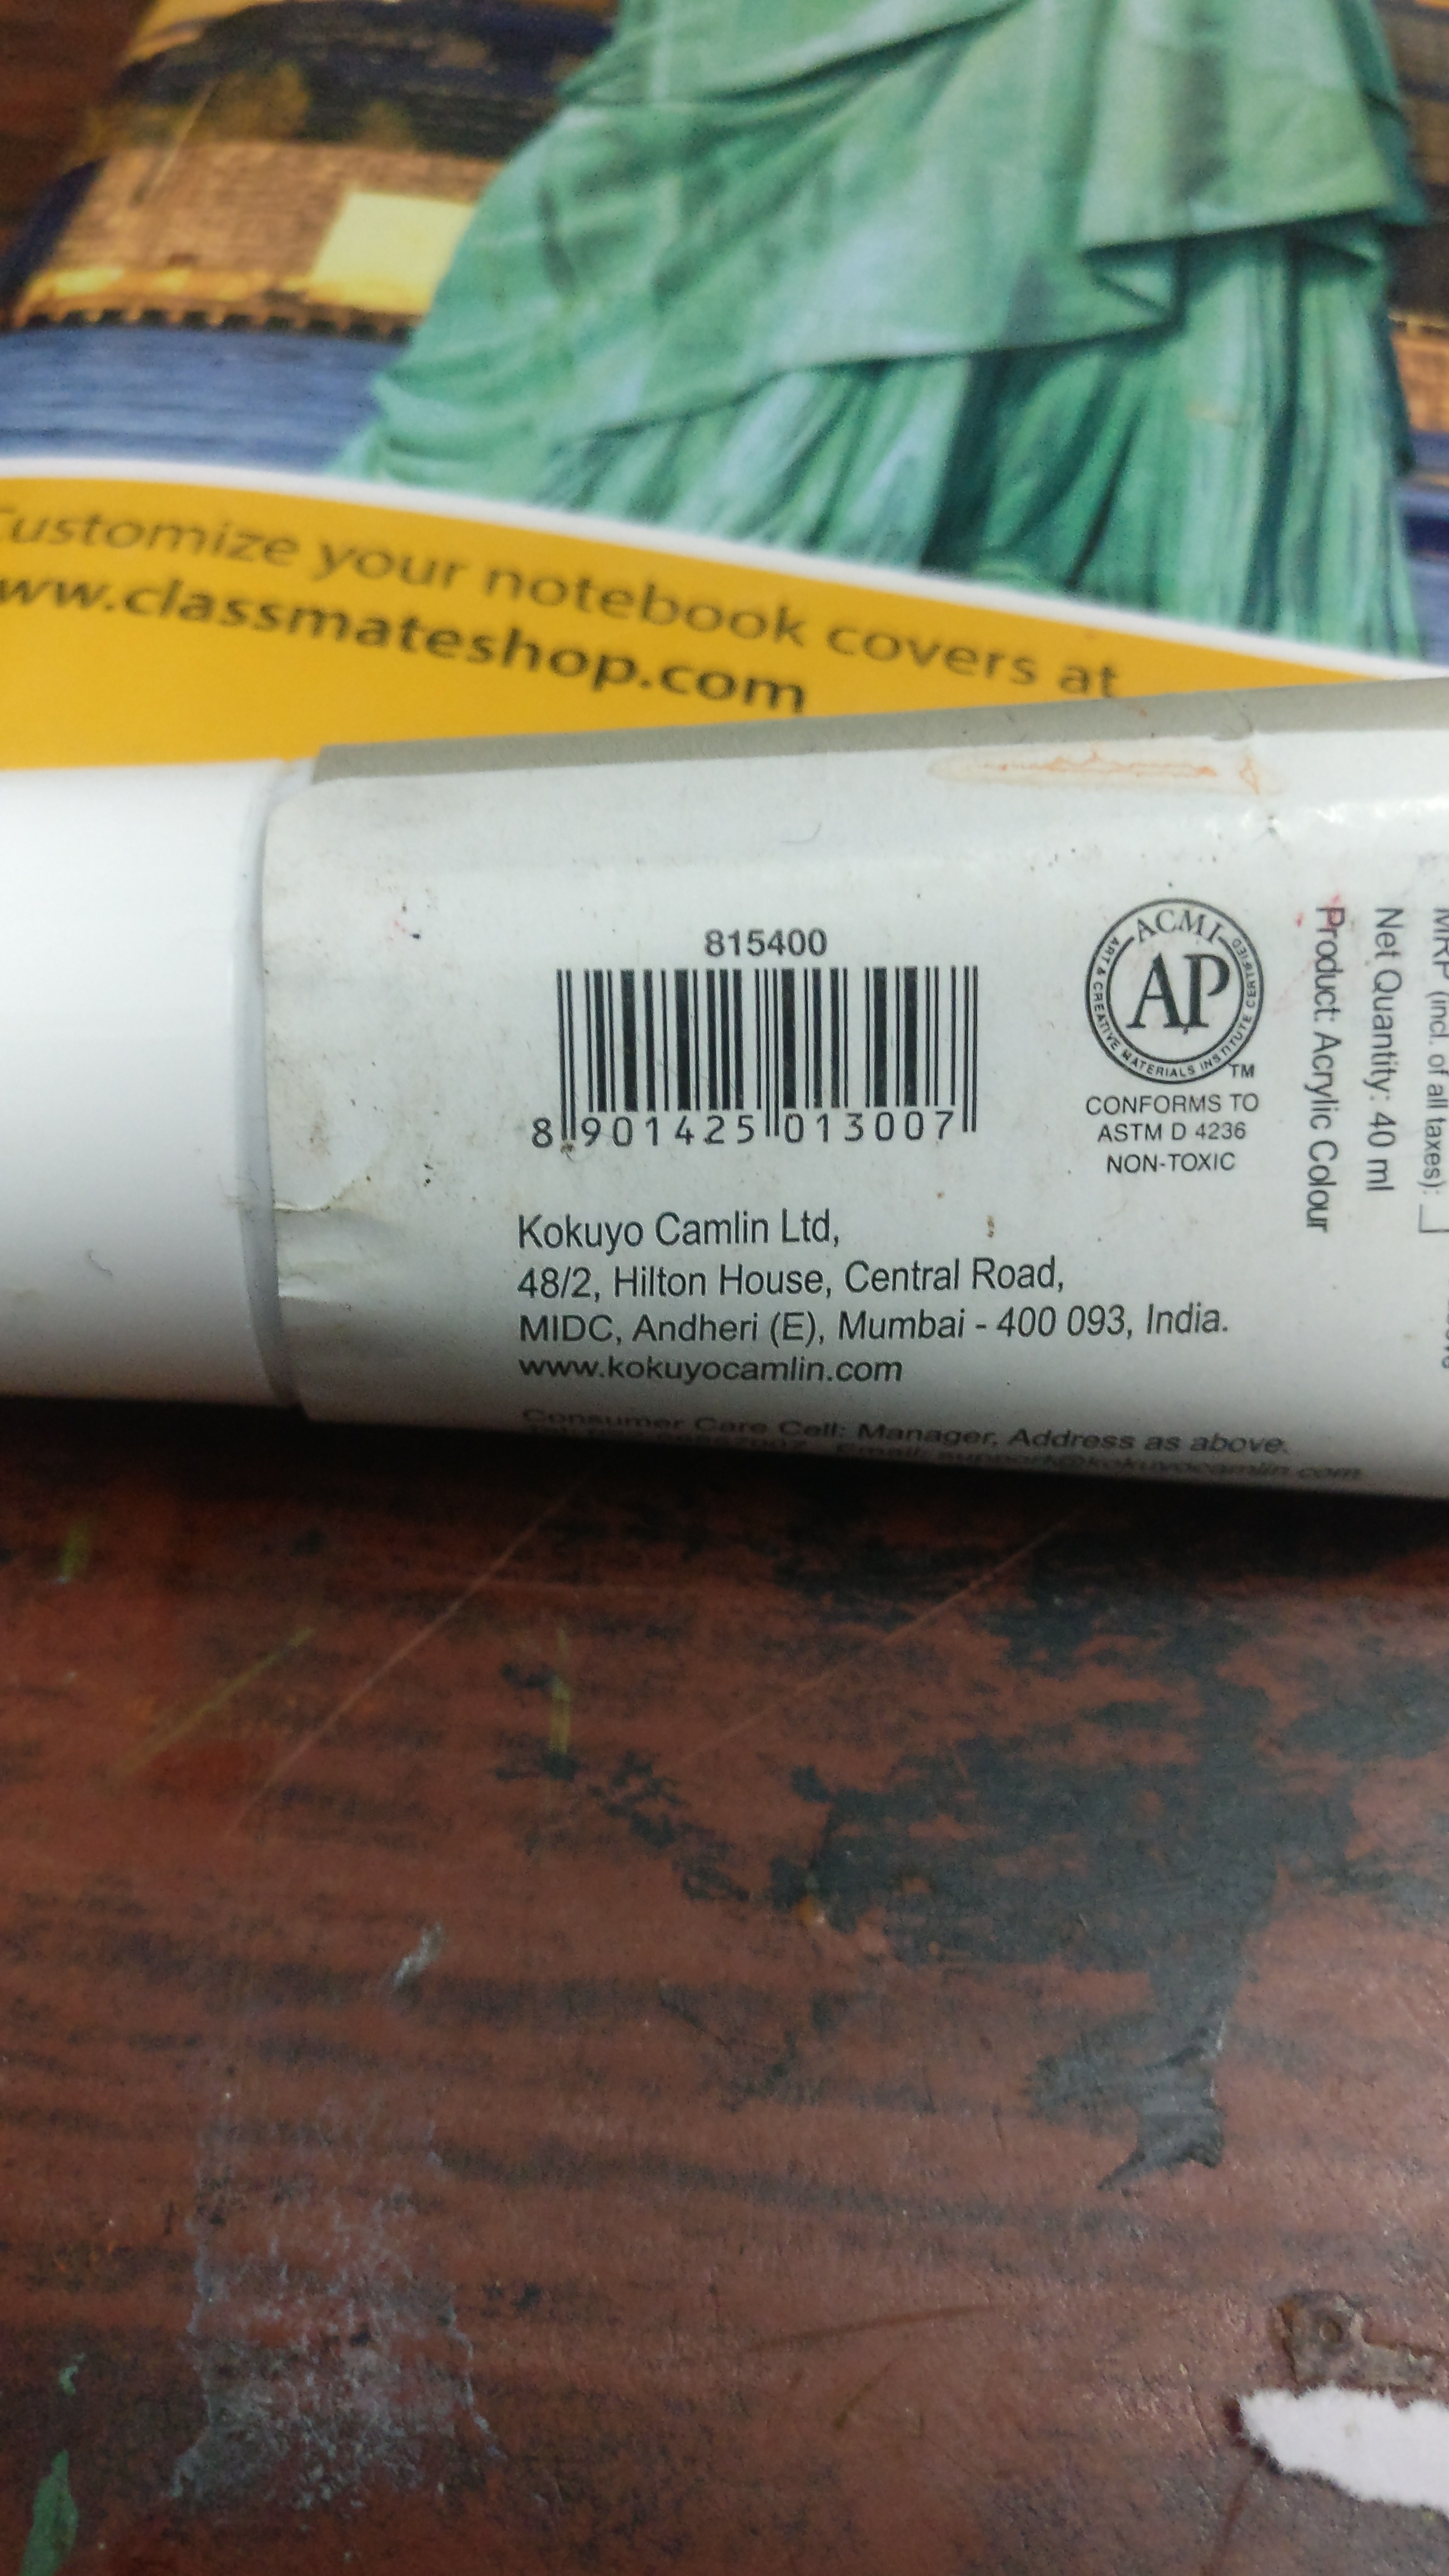barcode: (515, 941, 1017, 1177)
